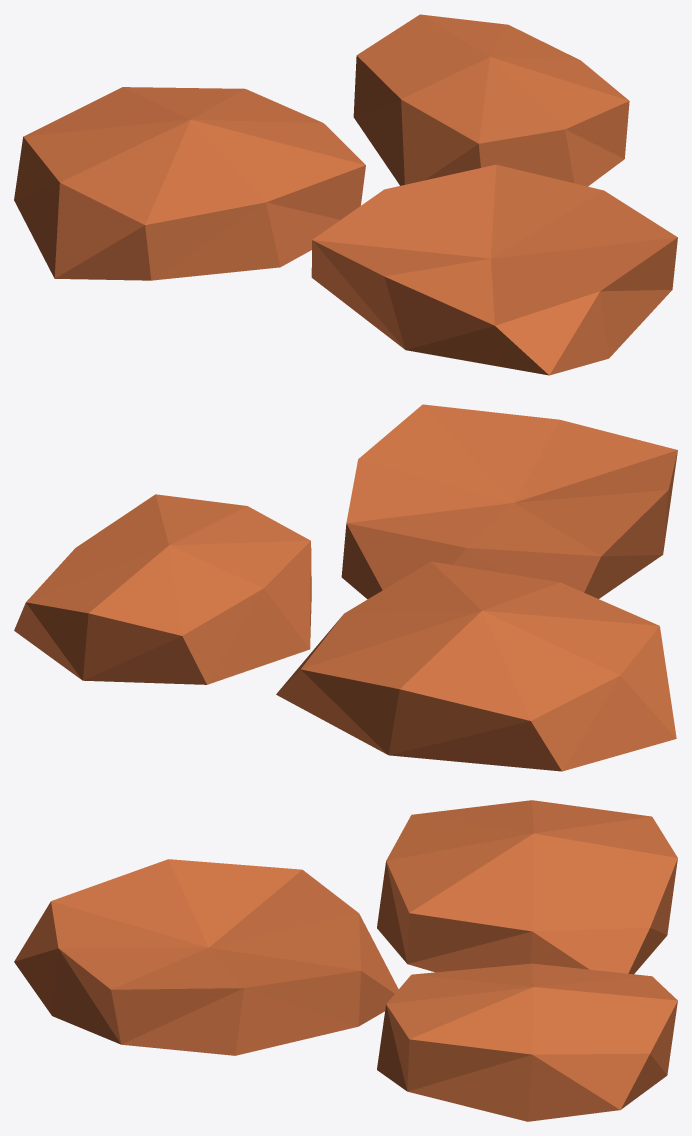
File: Sandstone 1.fbx
The picture shows the model from 3 angles, top to bottom: view 1: azimuth 30°, elevation 25°; view 2: azimuth 150°, elevation 25°; view 3: azimuth 270°, elevation 25°; orthographic projection. The views are drawn at different scales.
Parts seen in each view (by area): view 1: Sandstone Size 1; view 2: Sandstone Size 1; view 3: Sandstone Size 1.
Part boxes in pixels (<box>): Sandstone Size 1: <box>14,14,677,375</box>; Sandstone Size 1: <box>14,404,677,771</box>; Sandstone Size 1: <box>14,800,677,1121</box>.
Bounding box in the file's own units: 83.16 × 16.49 × 86.3.
